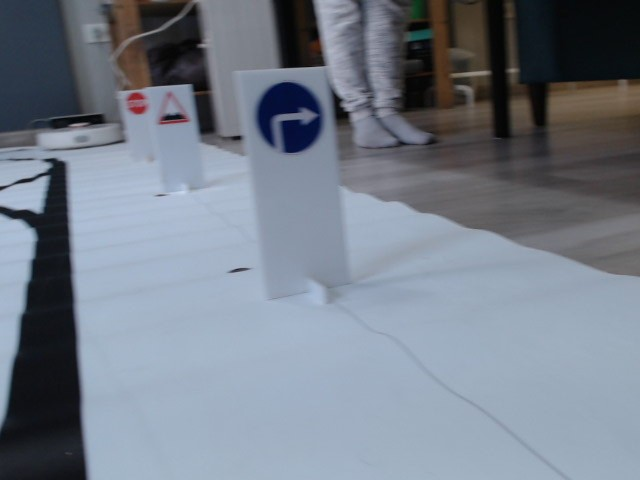Nerov: (155, 91, 188, 125)
Right: (255, 80, 325, 153)
